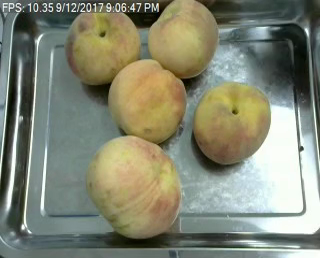Peach: (87, 135, 182, 238), (107, 57, 187, 141), (194, 81, 272, 166), (64, 4, 142, 87), (147, 0, 219, 78)
